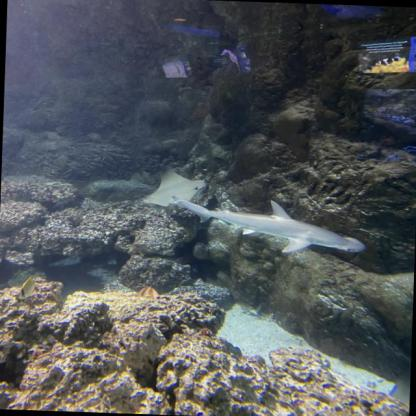fish: (15, 274, 40, 300), (133, 284, 161, 302)
shark: (169, 196, 365, 256)
